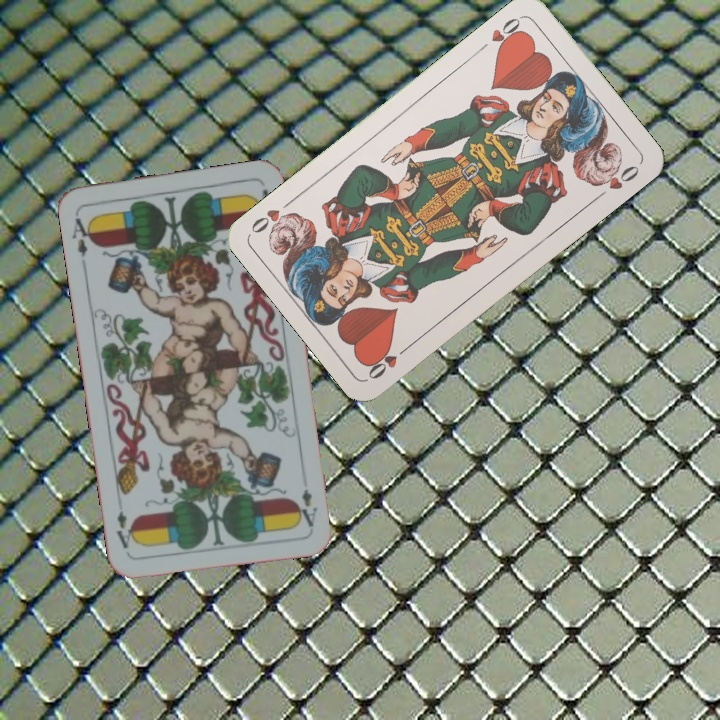EA: (68, 210, 97, 262), (294, 485, 320, 530)
HO: (475, 12, 526, 55), (364, 340, 414, 382)
